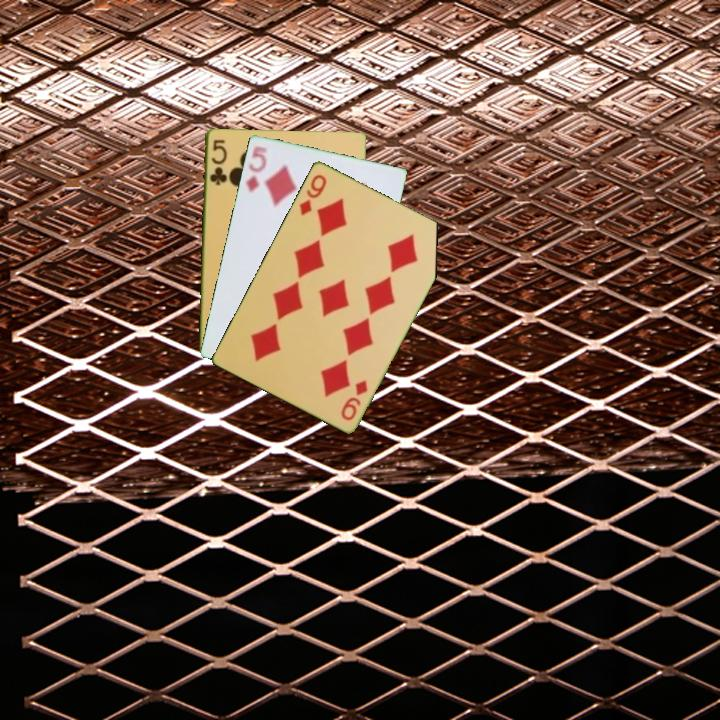5c: (206, 136, 229, 188)
5d: (242, 142, 269, 195)
9d: (295, 170, 329, 218), (337, 376, 370, 423)
